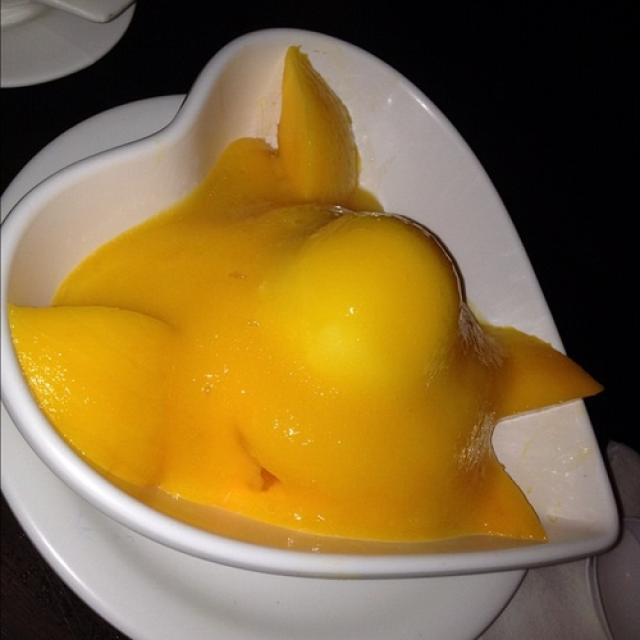蛋糕甜品: (8, 23, 620, 608)
